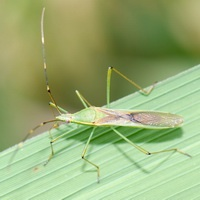insect: (0, 65, 199, 199)
